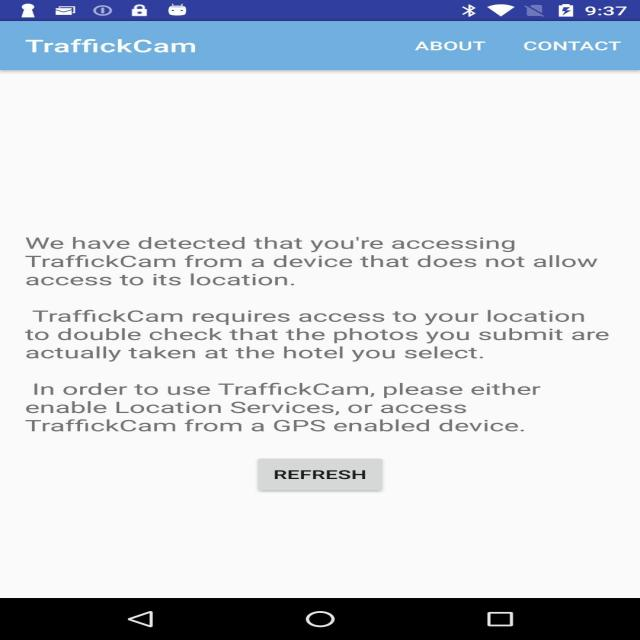button: (3, 26, 636, 67), (1, 599, 603, 640), (228, 453, 432, 500)
icon: (11, 1, 640, 23)
text: (21, 223, 631, 444)
